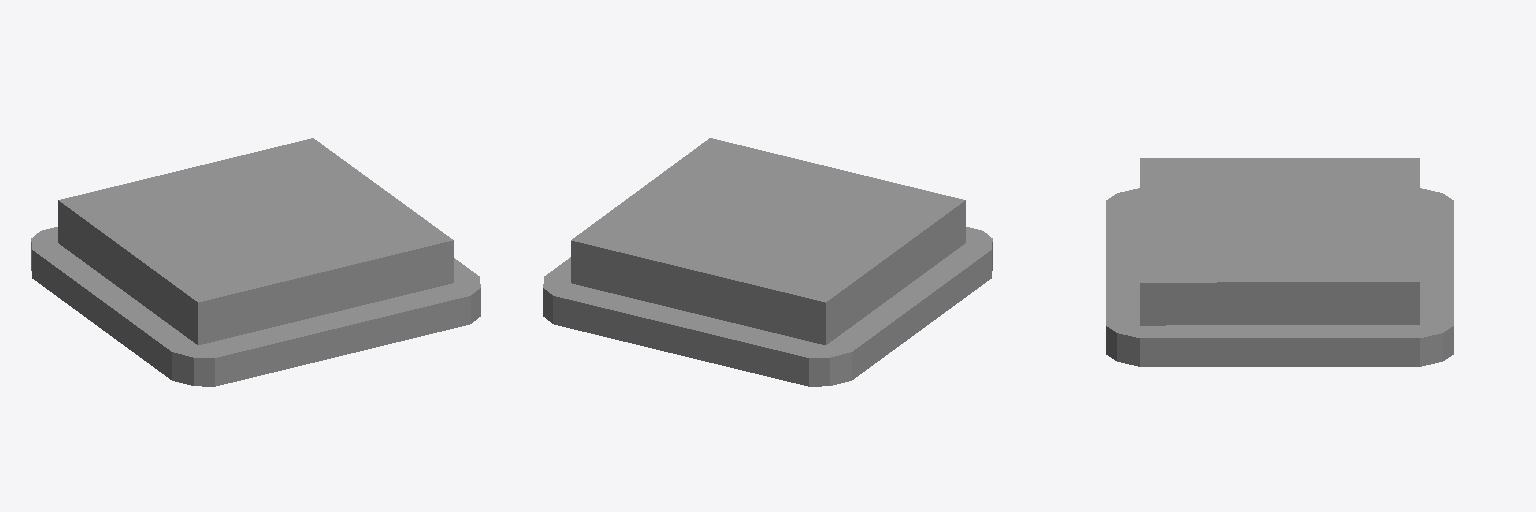
File: building_3.obj
The picture shows the model from 3 angles: view 1: azimuth 30°, elevation 25°; view 2: azimuth 150°, elevation 25°; view 3: azimuth 270°, elevation 25°; orthographic projection.
Parts seen in each view (by area): view 1: Building_3_Cube.002; view 2: Building_3_Cube.002; view 3: Building_3_Cube.002.
Boxes of the visible parts, <box> form: Building_3_Cube.002: <box>31,138,480,386</box>; Building_3_Cube.002: <box>543,138,992,386</box>; Building_3_Cube.002: <box>1106,158,1453,366</box>.
Size of the model in its own units: 9.46 by 2.1 by 9.26.